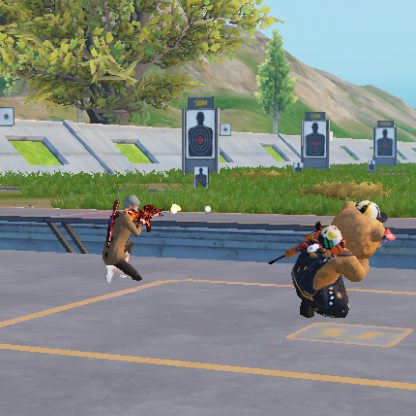ren: (293, 198, 388, 320), (100, 193, 146, 283)
tou: (339, 201, 384, 259), (122, 195, 144, 216)
